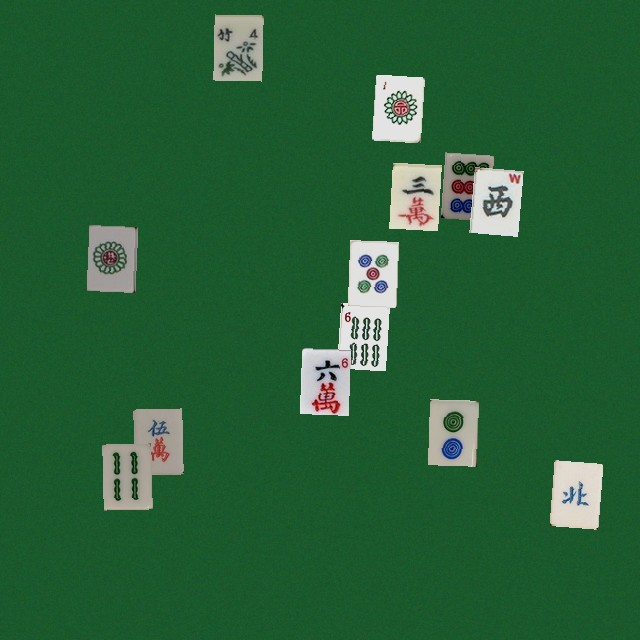tile: (336, 302, 385, 368), (347, 240, 396, 306), (133, 408, 182, 474), (299, 348, 348, 414), (389, 162, 438, 228), (427, 399, 476, 465), (440, 152, 489, 218), (469, 167, 518, 233), (371, 74, 420, 140), (213, 14, 262, 80), (102, 443, 151, 509), (549, 460, 598, 526), (86, 224, 135, 290)
